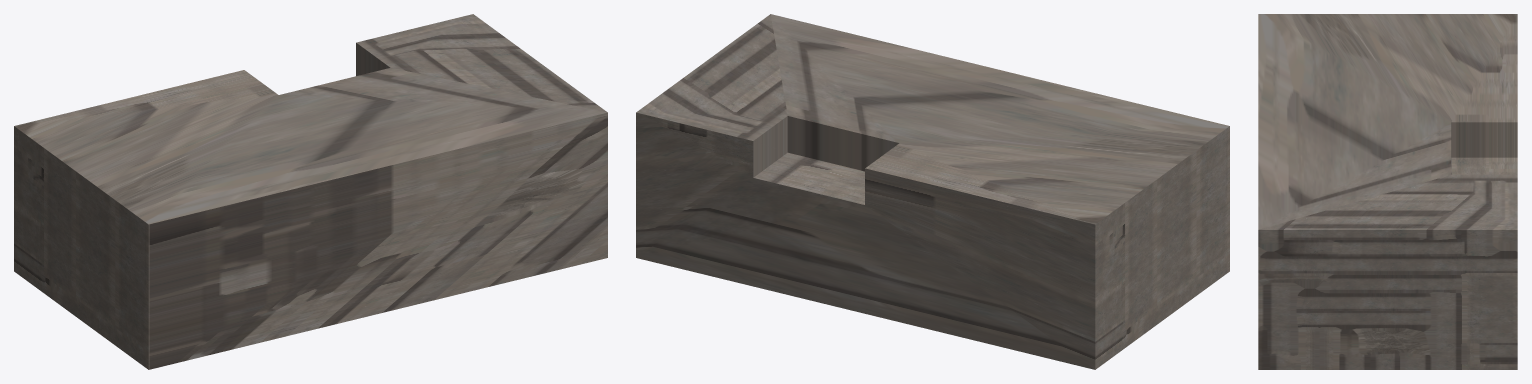
Rendered from sb_obj_outdoor009_AncientTemple_WallC_col.fbx.
The picture shows the model from 3 angles, left to right: view 1: azimuth 30°, elevation 25°; view 2: azimuth 150°, elevation 25°; view 3: azimuth 270°, elevation 25°; orthographic projection. The views are drawn at different scales.
Parts seen in each view (by area): view 1: sb_obj_outdoor009_AncientTemple_WallC_col; view 2: sb_obj_outdoor009_AncientTemple_WallC_col; view 3: sb_obj_outdoor009_AncientTemple_WallC_col.
Boxes of the visible parts, left/top/right/bottom form: sb_obj_outdoor009_AncientTemple_WallC_col: left=14, top=14, right=607, bottom=369; sb_obj_outdoor009_AncientTemple_WallC_col: left=636, top=14, right=1229, bottom=369; sb_obj_outdoor009_AncientTemple_WallC_col: left=1258, top=14, right=1517, bottom=369.
Bounding box in the file's own units: 3.61 × 1.09 × 1.83.
